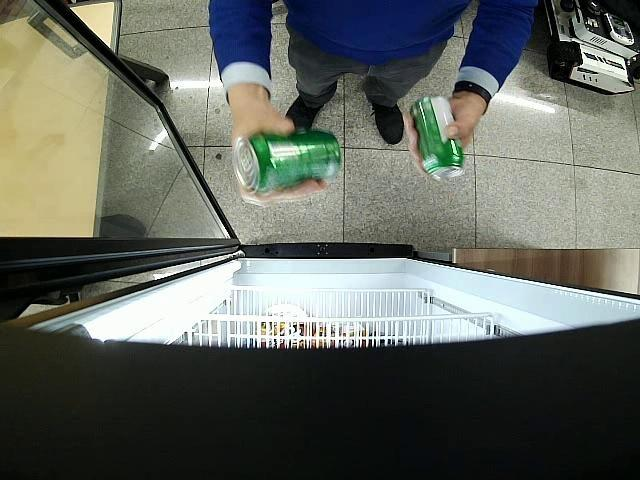12_chilsungCider: (232, 130, 340, 194), (410, 96, 465, 181)
